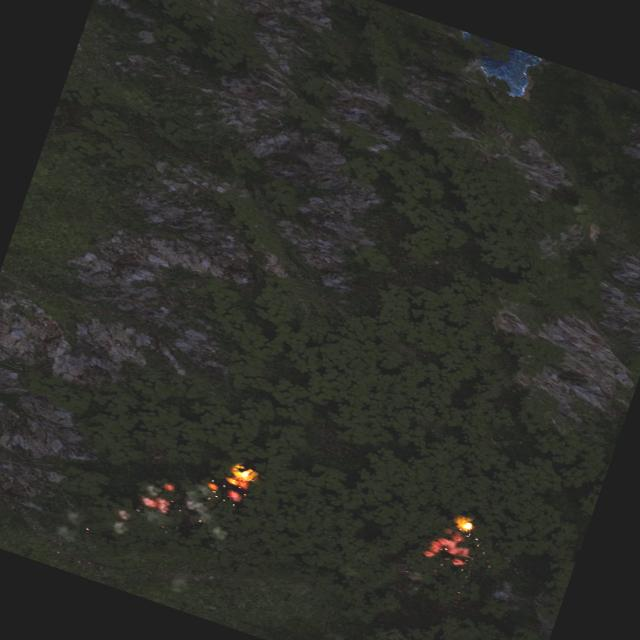fire: (224, 462, 256, 491), (454, 515, 474, 532)
smoke: (130, 466, 240, 542), (420, 527, 472, 569), (133, 474, 177, 514), (203, 482, 242, 504), (106, 506, 132, 536)
